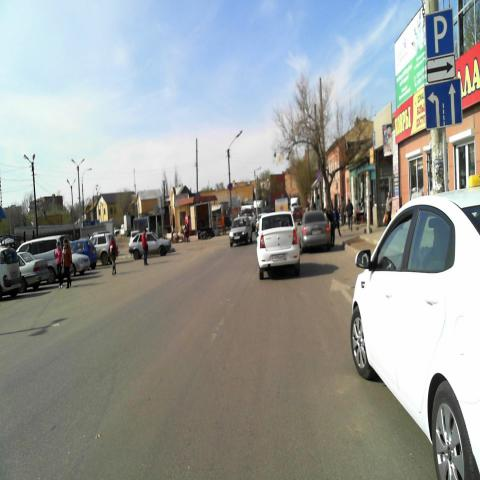8_3_1: (426, 58, 454, 82)
